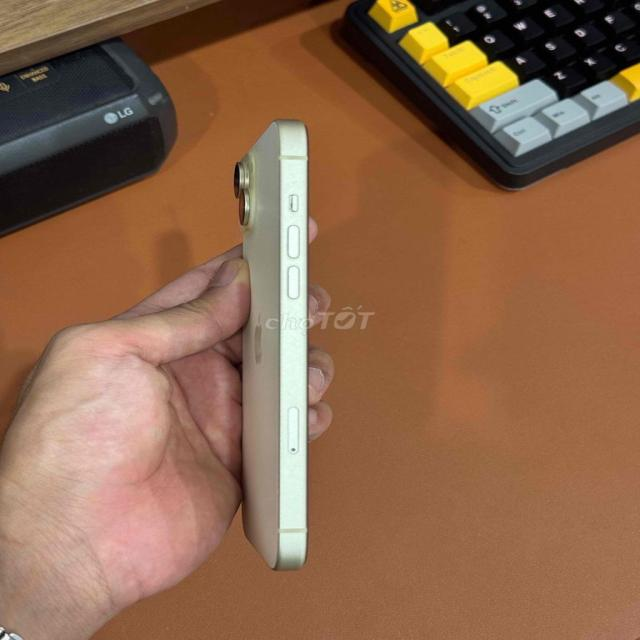gen_15: (200, 116, 333, 583)
